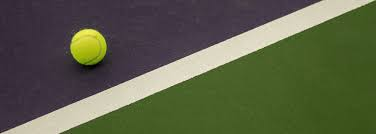tennis_ball: (70, 28, 107, 66)
